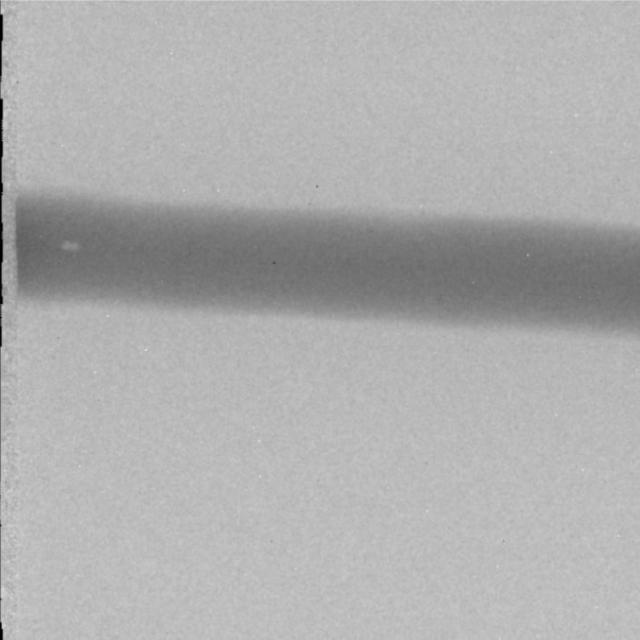air hole: (58, 237, 78, 253)
